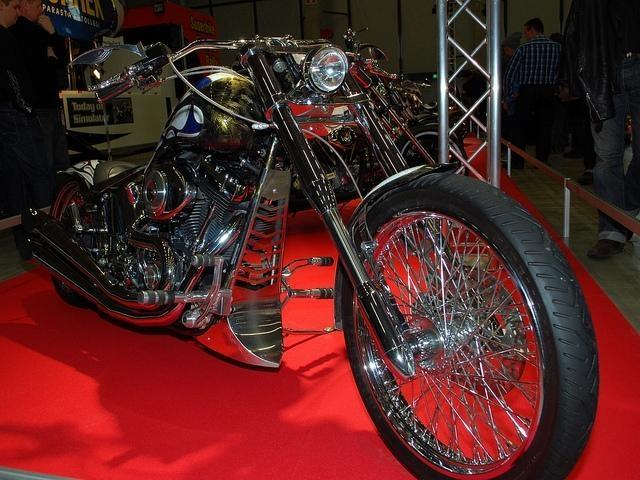motorcycle: (14, 27, 599, 472)
